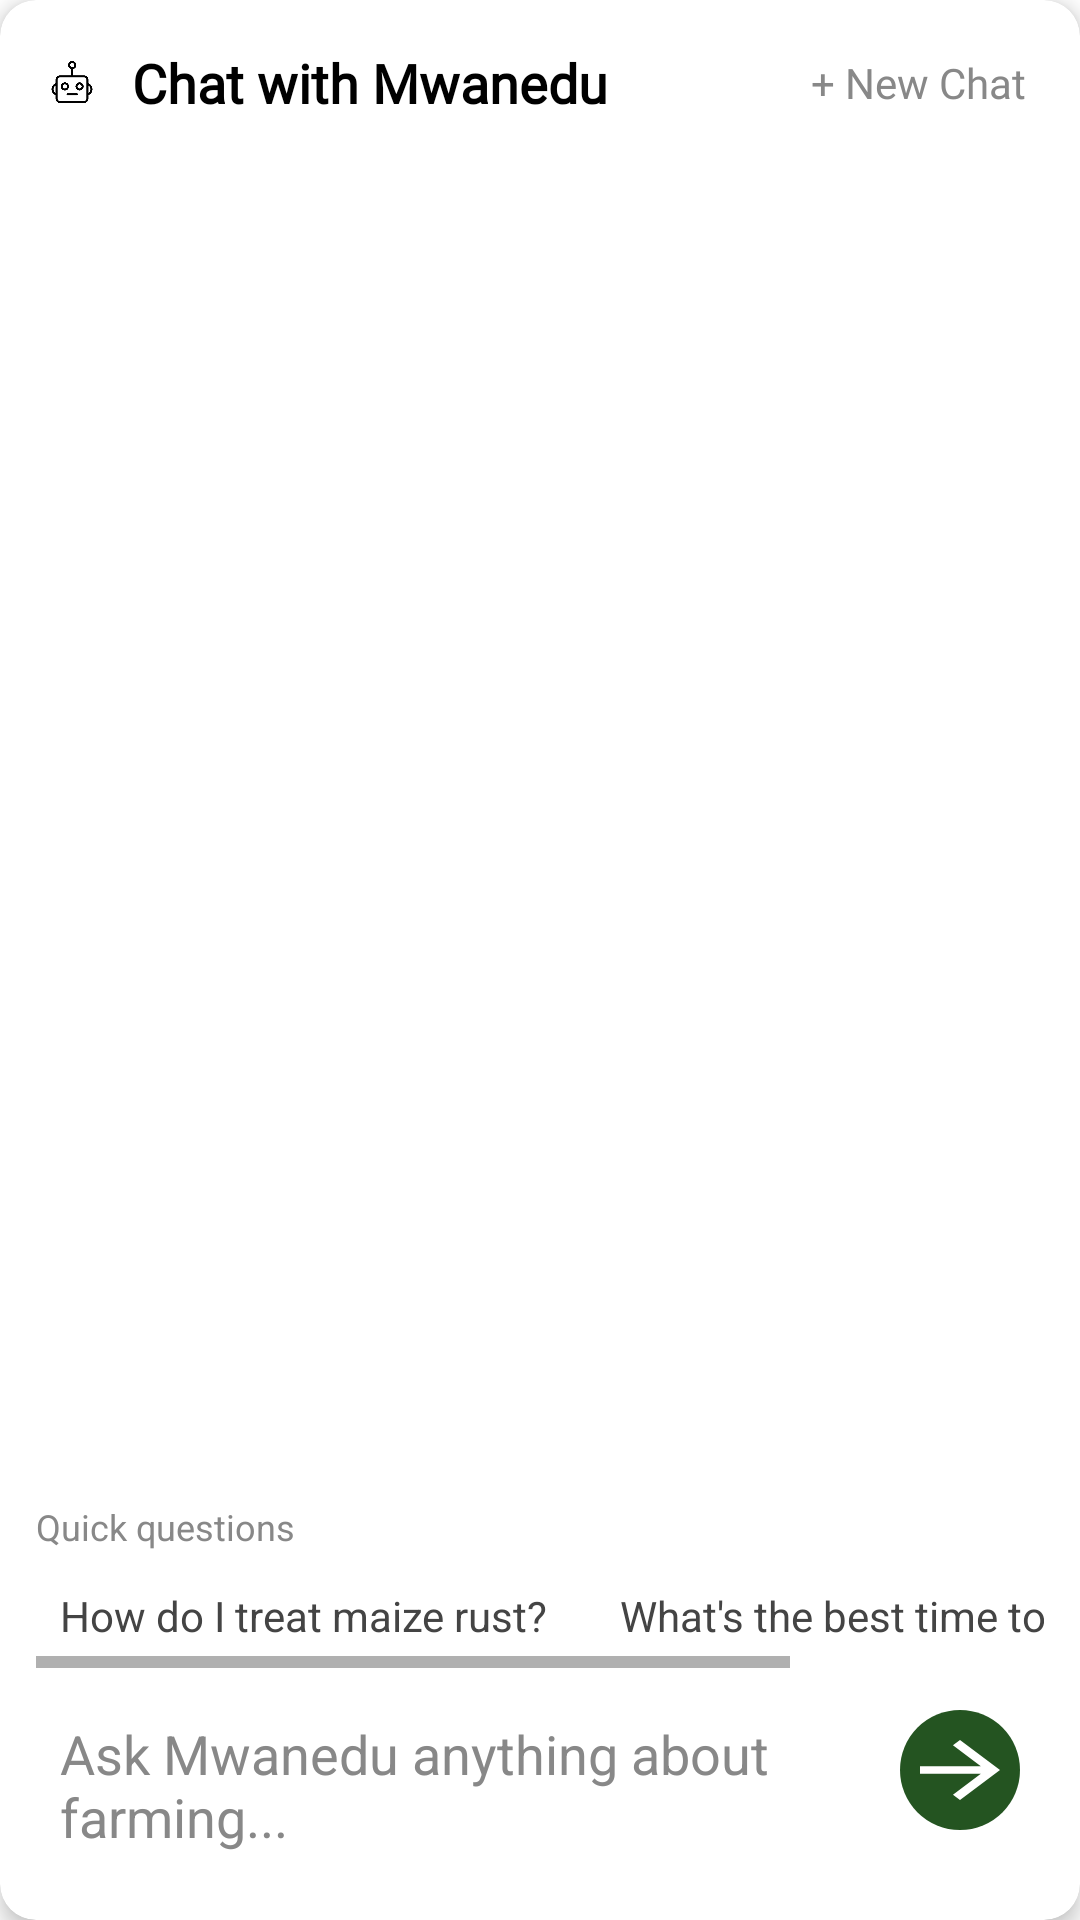

Screen size 1080×1920. Icon name, then its center in pixels as (x=x, y=y):
Next: (x=960, y=1770)
robot: (x=72, y=82)
